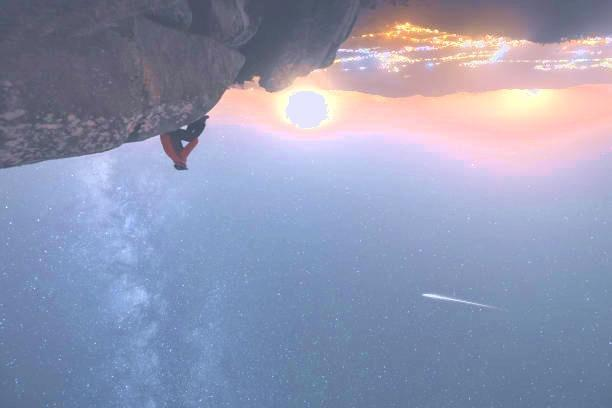meteorite: (403, 285, 511, 315)
